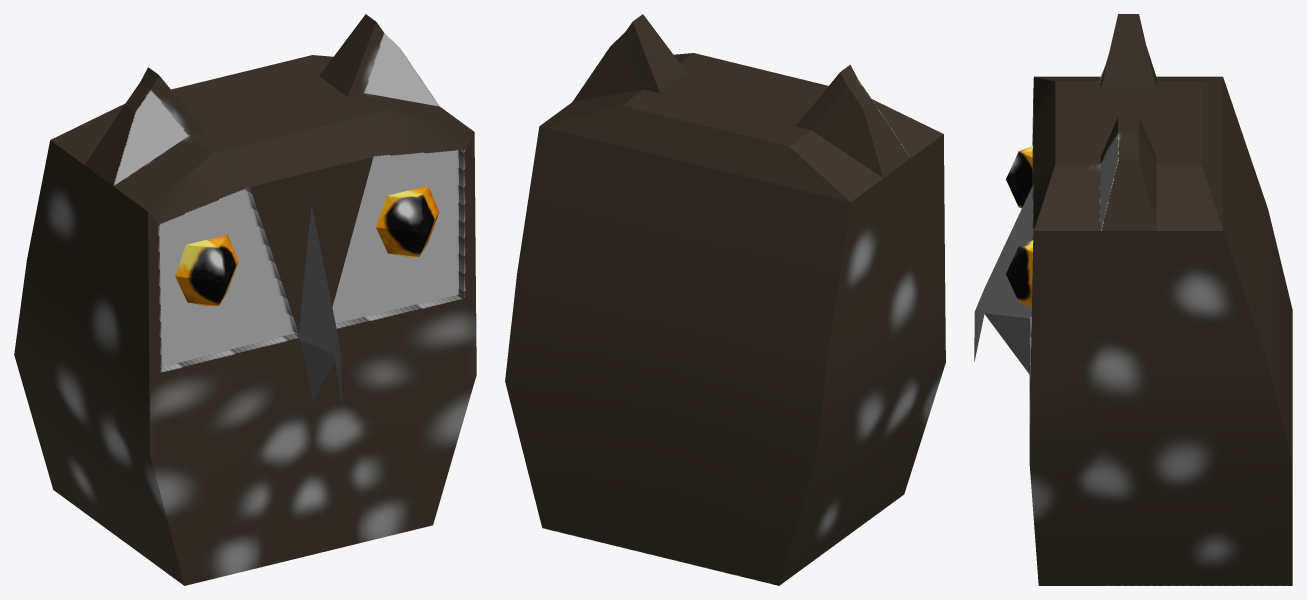
File: Buho_cabeza (5).fbx
3 views of the same model, side by side, from view 1: azimuth 30°, elevation 25°; view 2: azimuth 150°, elevation 25°; view 3: azimuth 270°, elevation 25° (orthographic). The views are drawn at different scales.
Visible parts, largest first — view 1: Buho_Cabeza; view 2: Buho_Cabeza; view 3: Buho_Cabeza.
Part boxes in pixels (left/top/right/bottom): Buho_Cabeza: left=14, top=14, right=476, bottom=585; Buho_Cabeza: left=505, top=14, right=945, bottom=585; Buho_Cabeza: left=974, top=14, right=1292, bottom=585.
Size of the model in its own units: 3.15 by 4.39 by 2.75.
